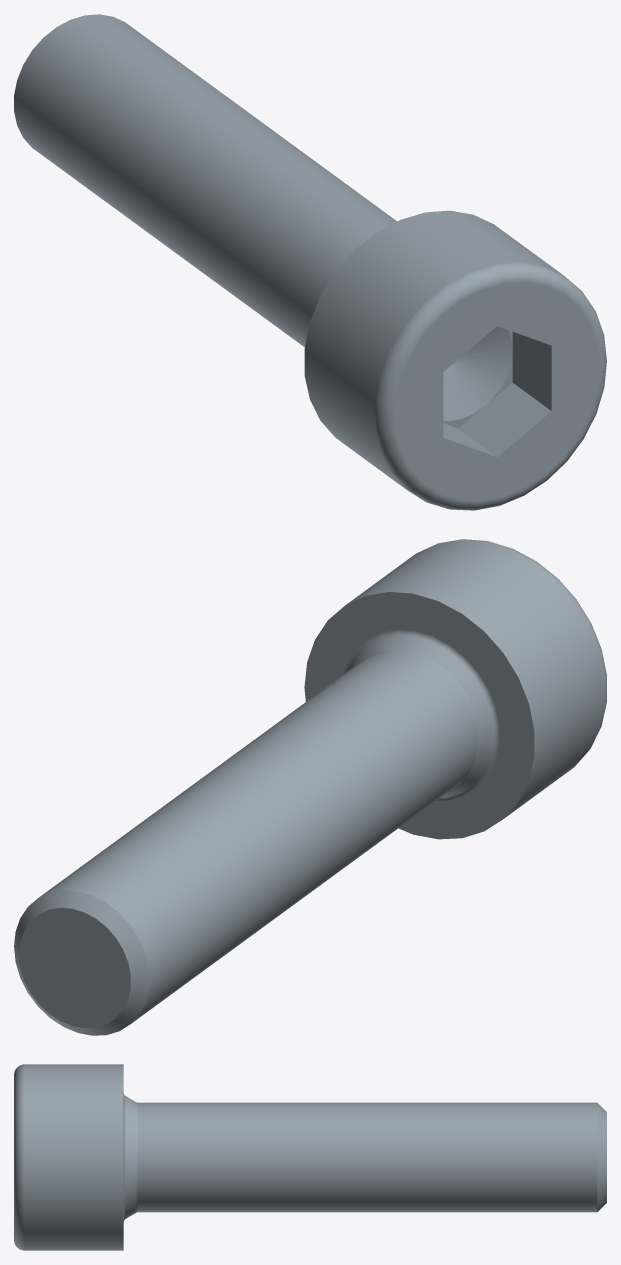
Rendered from Hex_socket_head_cap_screw_M5x0_80_x_22.obj.
The picture shows the model from 3 angles, top to bottom: view 1: azimuth 30°, elevation 25°; view 2: azimuth 150°, elevation 25°; view 3: azimuth 270°, elevation 25°; orthographic projection. The views are drawn at different scales.
Visible parts, largest first — view 1: mesh415, mesh420, mesh422, mesh421, mesh430, mesh428, mesh423; view 2: mesh415, mesh420, mesh419, mesh413, mesh414, mesh417, mesh418, mesh421; view 3: mesh415, mesh420, mesh421, mesh417, mesh414, mesh418, mesh416.
Part boxes in pixels (x1,y1,x2,y2): mesh415: (14,14,396,347); mesh420: (304,210,563,488); mesh422: (396,282,598,500); mesh421: (375,262,606,510); mesh430: (443,326,512,421); mesh428: (458,382,551,456); mesh423: (512,332,551,410); mesh415: (39,650,477,1023); mesh420: (346,540,604,818); mesh419: (304,592,534,839); mesh413: (19,908,130,1027); mesh414: (14,890,149,1035); mesh417: (348,635,493,797); mesh418: (342,629,499,801); mesh421: (422,539,606,762); mesh415: (138,1102,597,1212); mesh420: (25,1064,123,1250); mesh421: (14,1064,24,1250); mesh417: (126,1096,135,1218); mesh414: (597,1103,606,1211); mesh418: (123,1093,125,1221); mesh416: (136,1102,138,1212).
Bounding box in the file's own units: 0.00848 × 0.00849 × 0.027.
